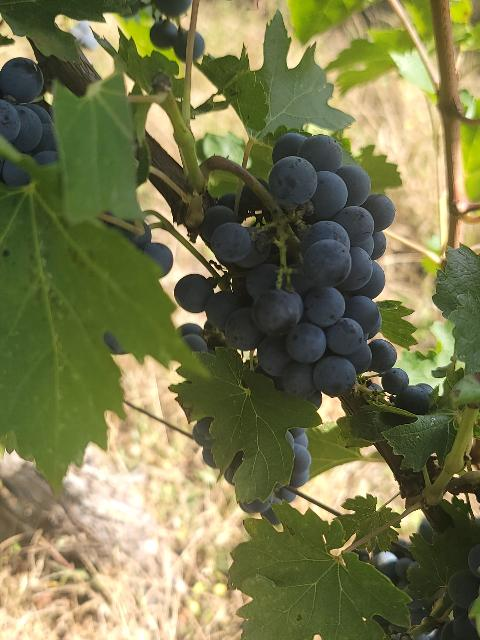grapes: (175, 135, 396, 400)
